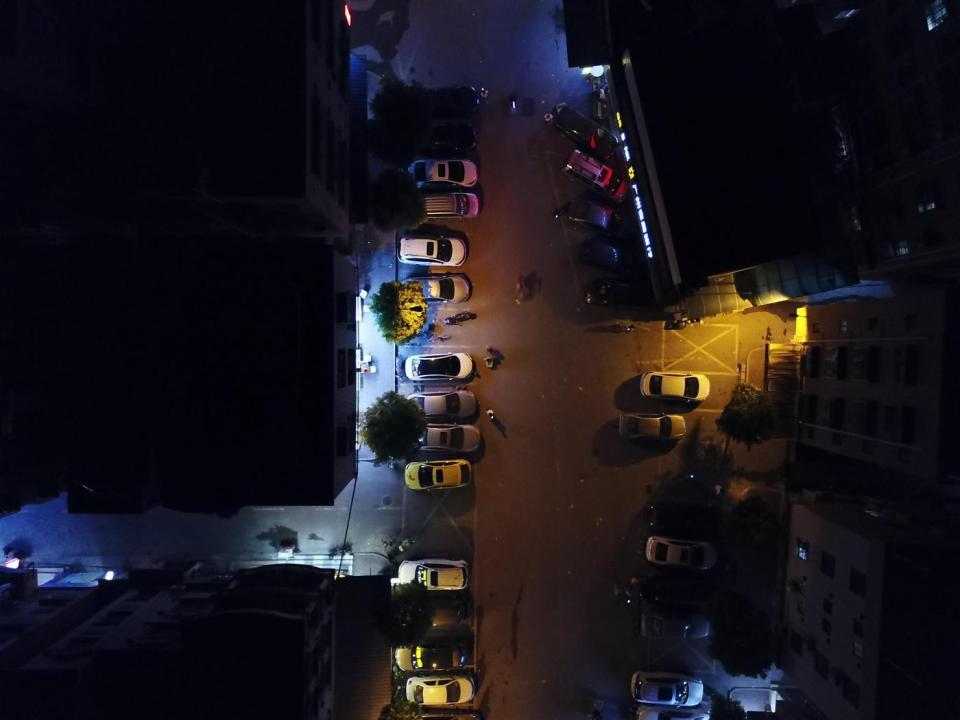car: (395, 633, 471, 674), (567, 198, 638, 239), (404, 118, 480, 155), (645, 534, 720, 571), (631, 670, 704, 708), (577, 238, 648, 274), (405, 84, 479, 118), (398, 557, 469, 592), (406, 157, 478, 191), (408, 421, 482, 454), (405, 188, 480, 220), (396, 599, 466, 633), (584, 277, 653, 311), (398, 271, 471, 303), (404, 458, 472, 492), (397, 234, 467, 267), (640, 608, 712, 640), (640, 371, 711, 402), (406, 675, 476, 706), (406, 389, 478, 419), (404, 351, 475, 381), (618, 411, 686, 442), (643, 500, 713, 530)
van: (560, 148, 633, 202), (554, 106, 620, 160)
